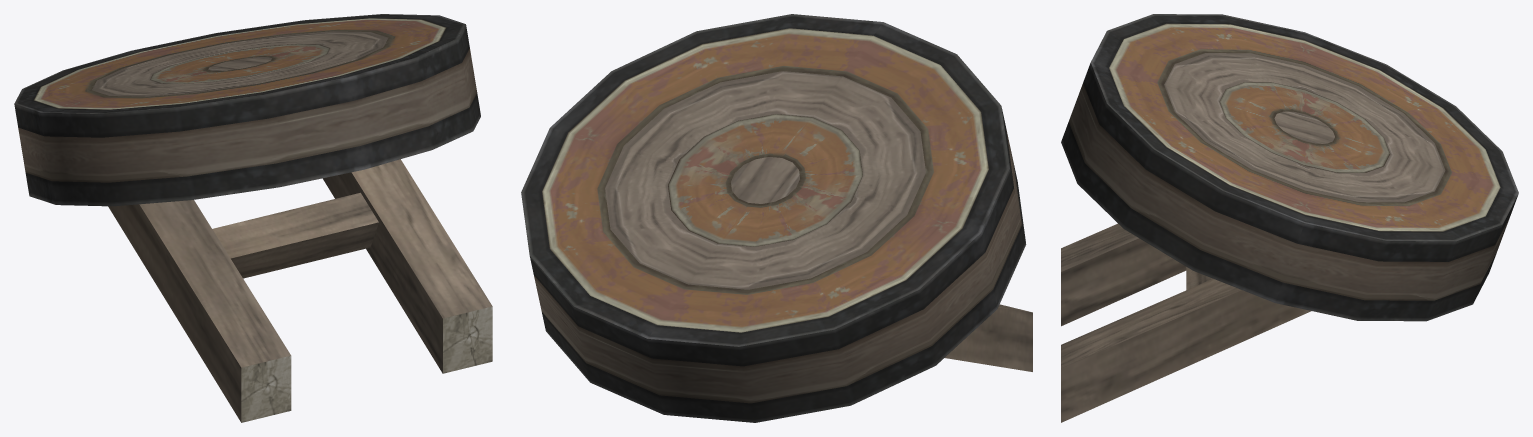
File: Target_A.fbx
3 views of the same model, side by side, from view 1: azimuth 30°, elevation 25°; view 2: azimuth 150°, elevation 25°; view 3: azimuth 270°, elevation 25° (orthographic). The views are drawn at different scales.
Parts seen in each view (by area): view 1: Target_A; view 2: Target_A; view 3: Target_A.
Boxes of the visible parts, box(x1,y1,x2,y2) form: Target_A: box(14, 14, 492, 422); Target_A: box(521, 14, 1032, 422); Target_A: box(1061, 14, 1518, 422).
Size of the model in its own units: 1.35 by 0.9869 by 1.37.
